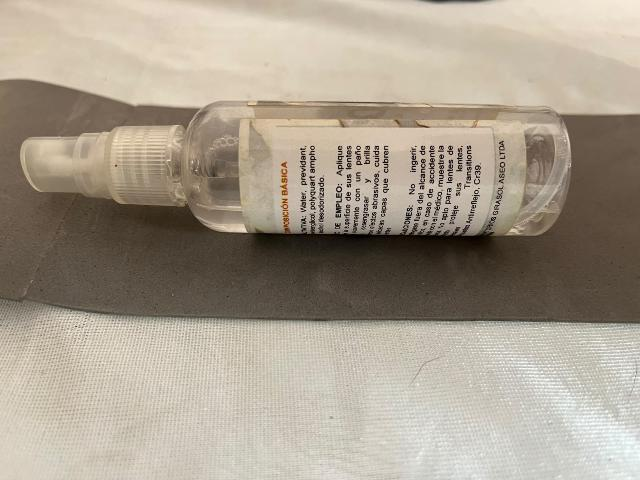PET: (4, 48, 599, 269)
